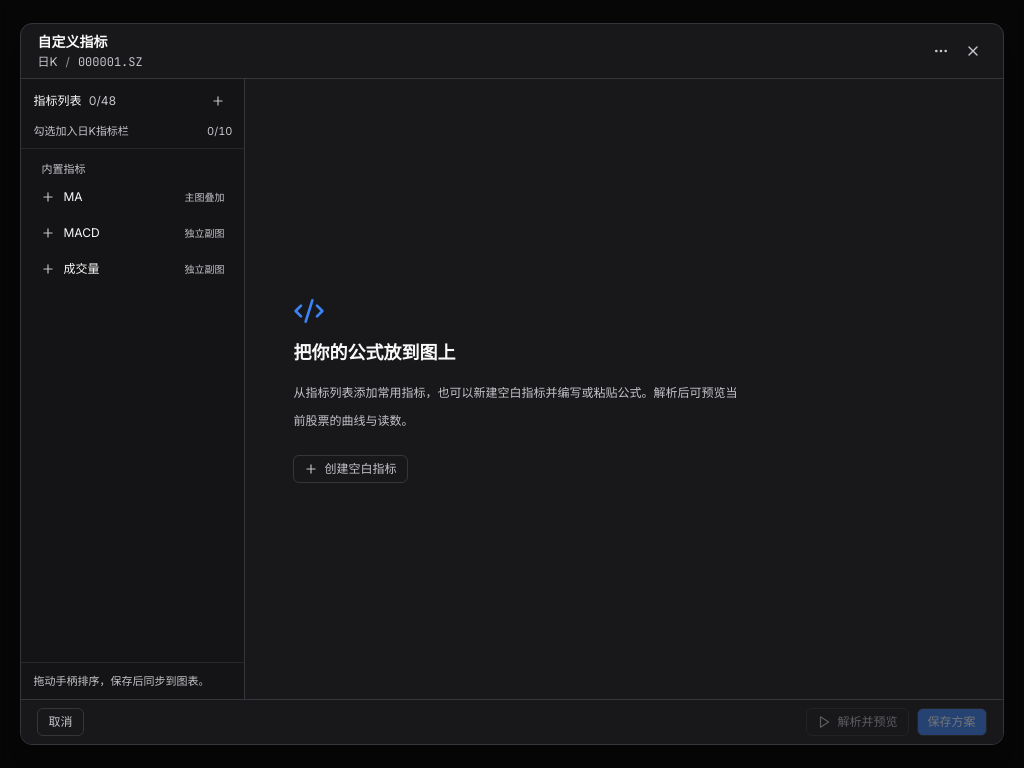
creates an empty source indicator and saves pasted code without seeding presets
The width and height of the screenshot is (1024, 768).
Later steps or results of the test are not shown.
Click the button "创建空白指标": [350, 469] box [294,455,408,483]
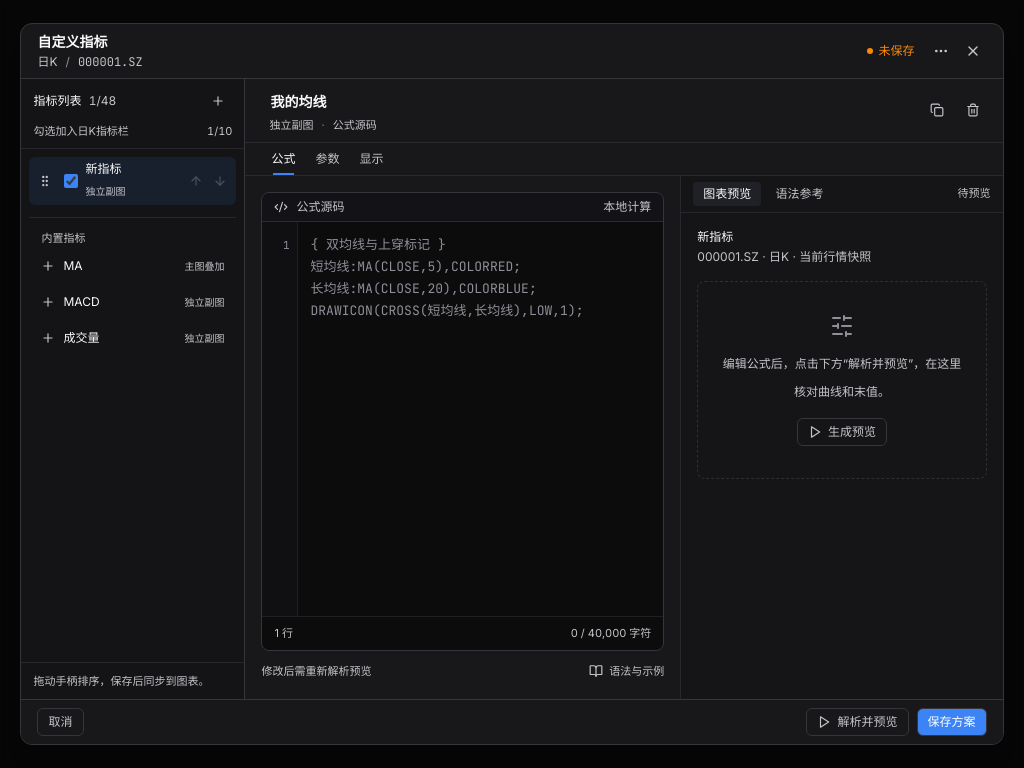
expect the text box named "公式源码" is empty: met, box [298,222,663,616]
